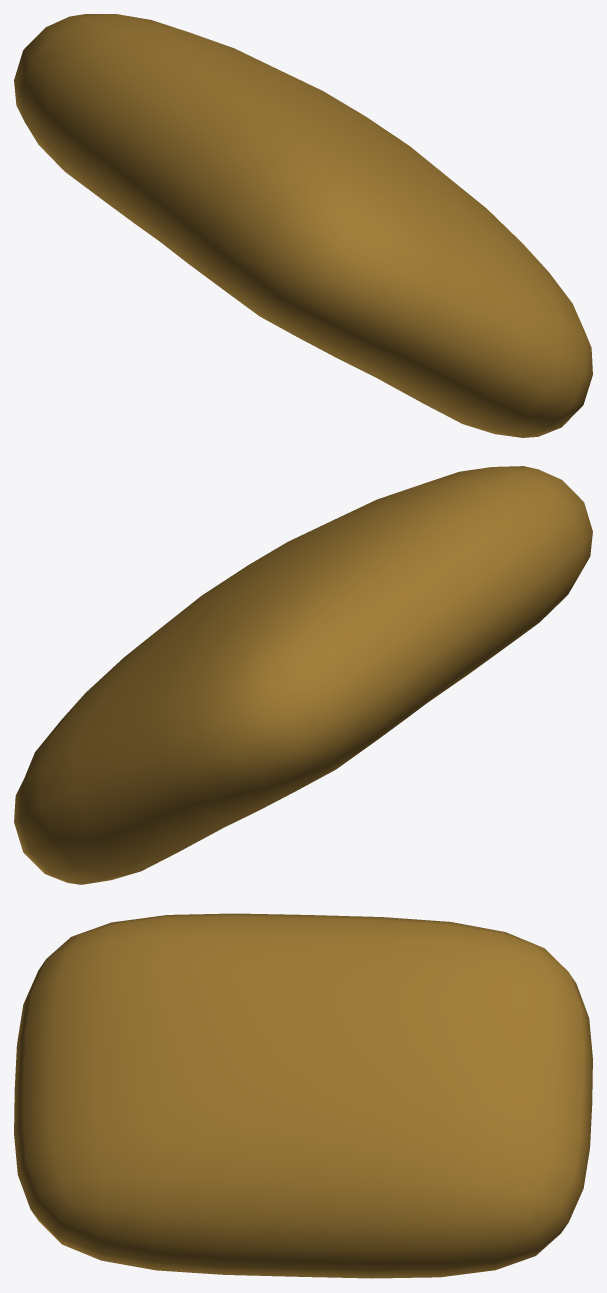
The model's file is SM_Cushion.fbx.
3 views of the same model, one above another, from view 1: azimuth 30°, elevation 25°; view 2: azimuth 150°, elevation 25°; view 3: azimuth 270°, elevation 25° (orthographic). The views are drawn at different scales.
Parts seen in each view (by area): view 1: Cushion; view 2: Cushion; view 3: Cushion.
Part boxes in pixels (bbox=[...]): Cushion: bbox=[14, 14, 592, 437]; Cushion: bbox=[14, 466, 592, 884]; Cushion: bbox=[14, 913, 592, 1278].
Size of the model in its own units: 0.6092 by 0.5158 by 1.02.
